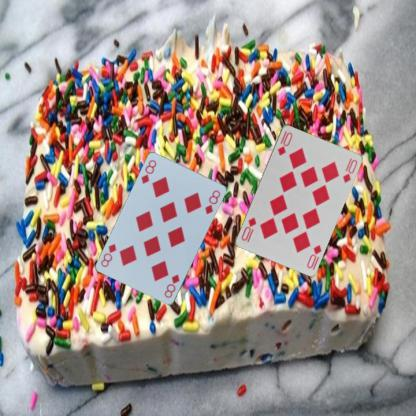10d: (275, 128, 294, 157), (304, 242, 323, 269)
8d: (139, 157, 158, 186), (162, 272, 181, 299)
